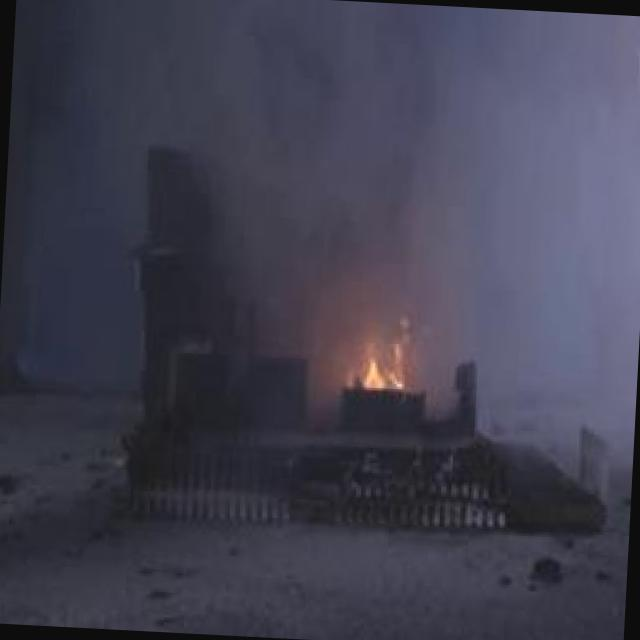fire: (315, 254, 444, 442)
smoke: (281, 2, 640, 312)
